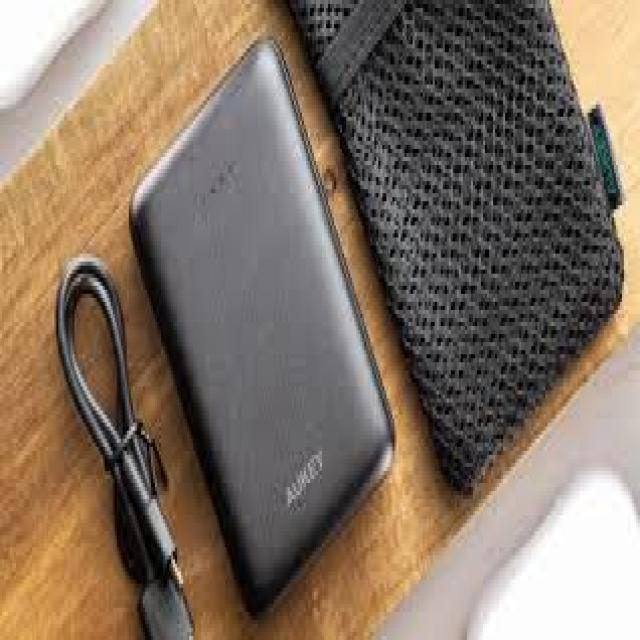portable-charger: (122, 28, 395, 628)
